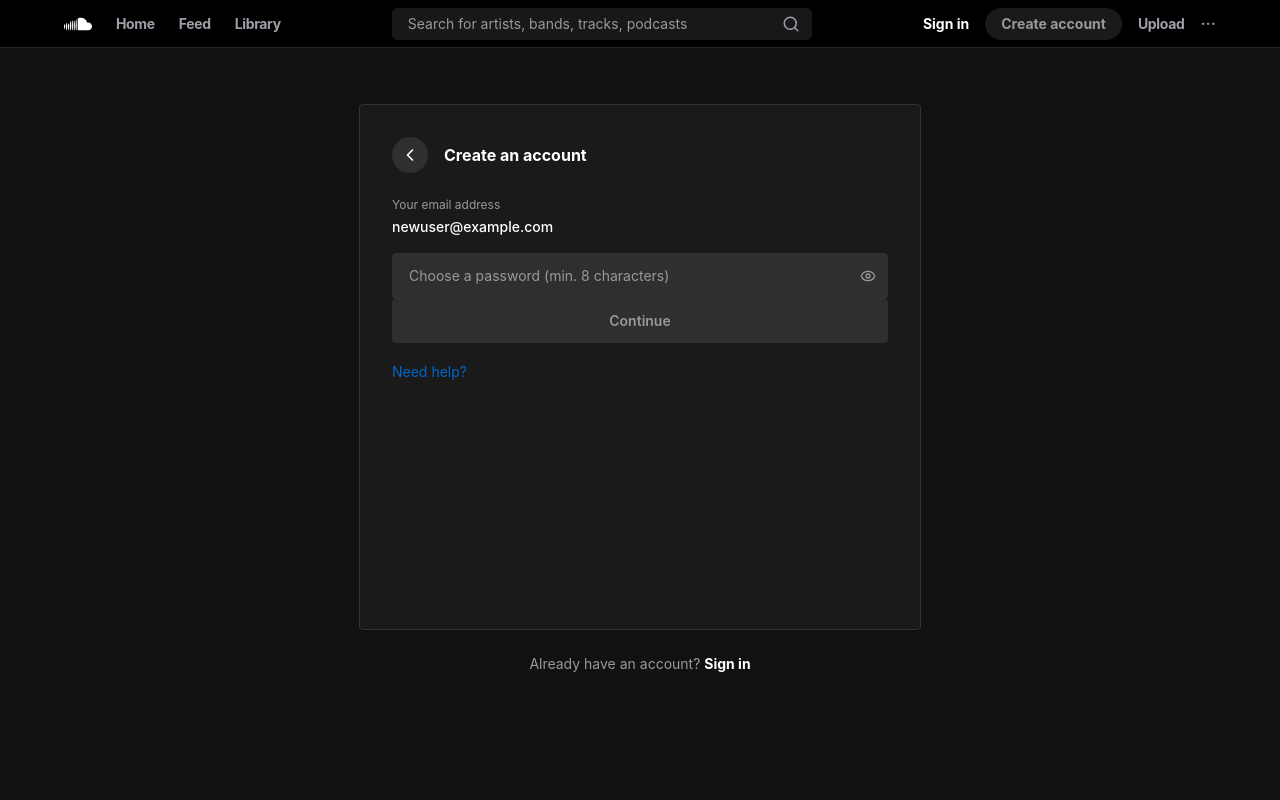
Scenario: SignUpPage — password button state › Continue button is enabled when password meets all requirements
This screenshot has width=1280, height=800.
Type "Password1!" into the password field with placeholder "Choose a password (min. 8 characters)" at (640, 276), box [392,253,888,299]
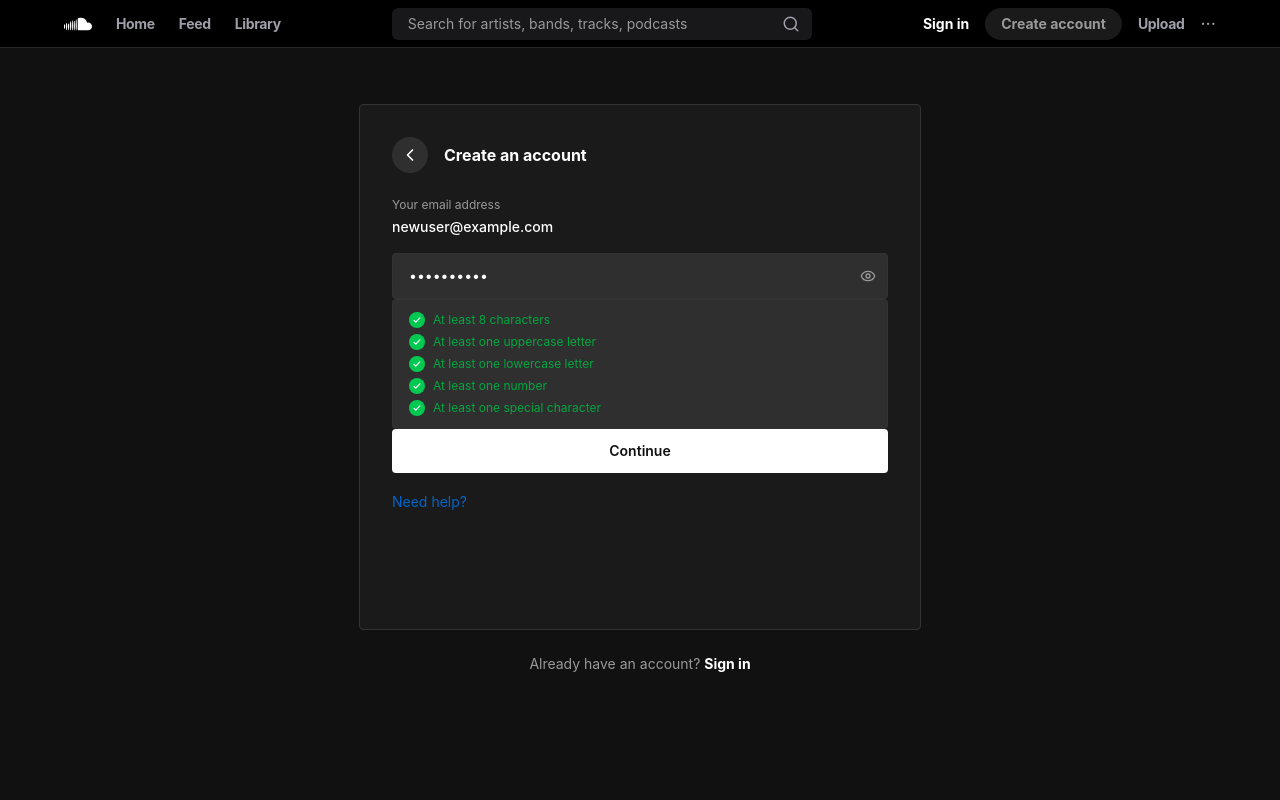
Expected: the button "Continue" is enabled, [392,429,888,473]
